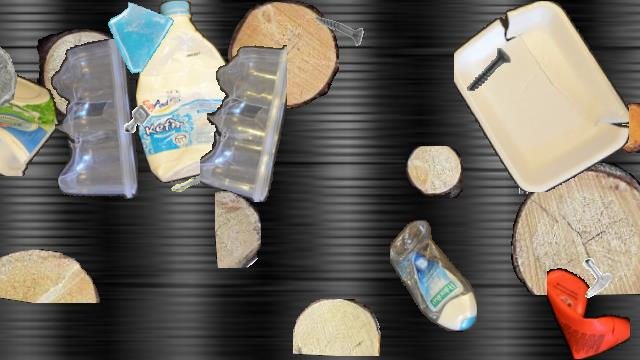glass: (104, 1, 178, 75), (0, 40, 18, 108)
metal: (457, 39, 519, 101), (154, 152, 212, 210), (306, 1, 364, 59), (511, 147, 557, 193), (571, 256, 615, 300), (116, 98, 158, 140)
plastic: (454, 1, 628, 191), (136, 1, 238, 183), (48, 39, 138, 203), (200, 41, 286, 201), (390, 220, 476, 332), (547, 265, 629, 359), (0, 70, 58, 176)
wood: (511, 163, 640, 295), (228, 1, 338, 109), (34, 29, 130, 119), (494, 93, 586, 169), (0, 249, 103, 303), (293, 299, 381, 355), (215, 190, 261, 268), (406, 146, 462, 198), (611, 103, 640, 153)
